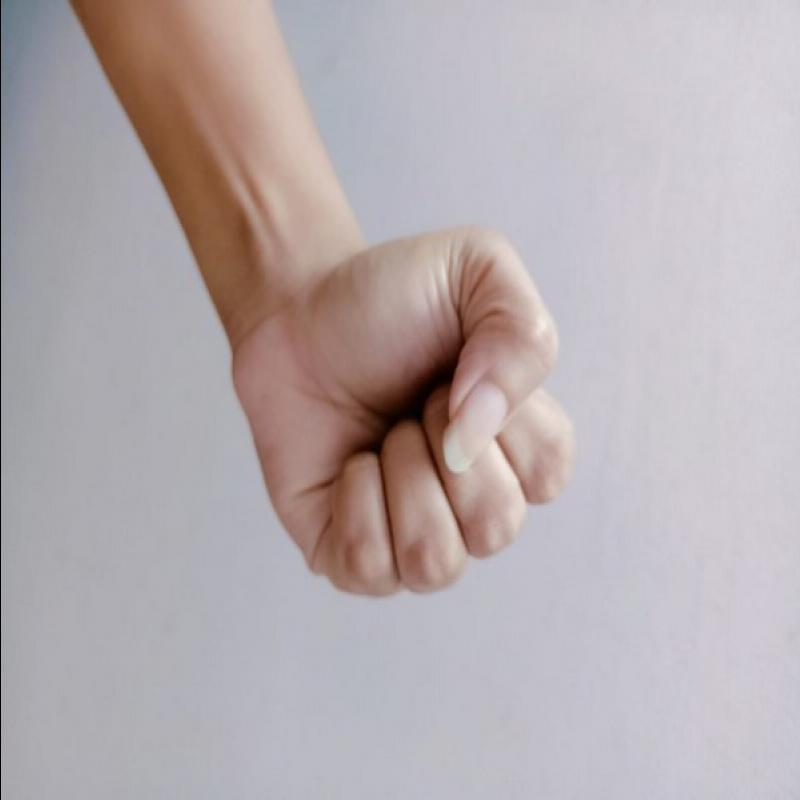Mushti: (213, 219, 613, 609)
